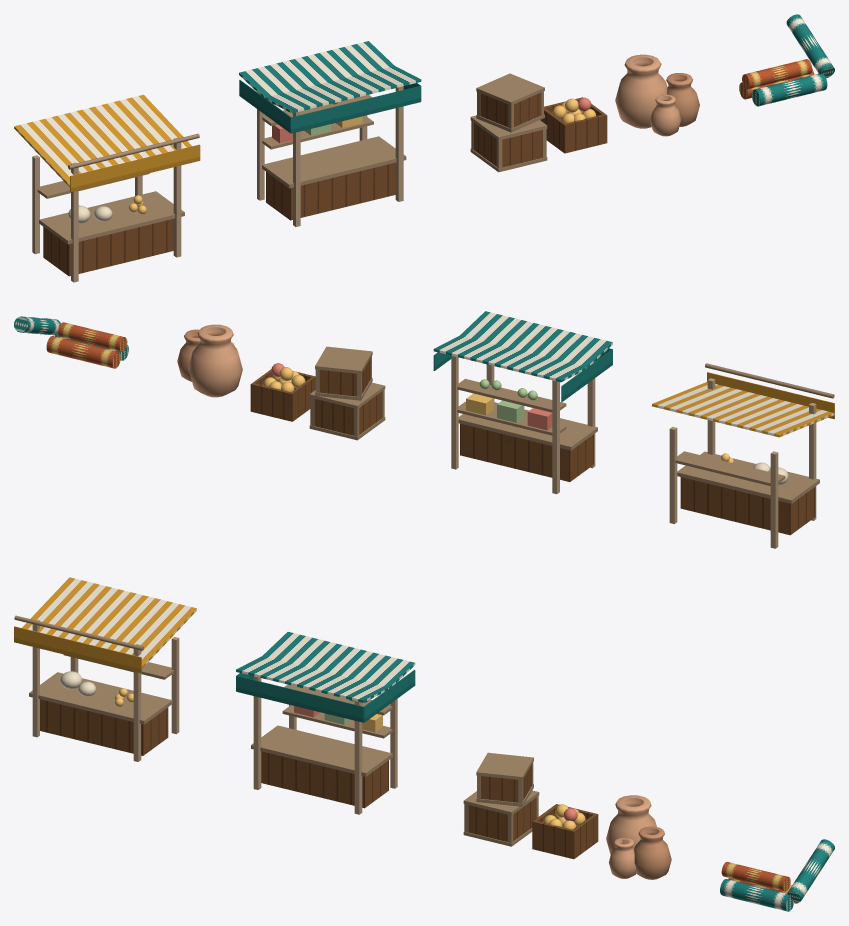
File: kit-2-bazaar-market.glb
3 renders of one model, top to bottom at view 1: azimuth 30°, elevation 25°; view 2: azimuth 150°, elevation 25°; view 3: azimuth 330°, elevation 25°, orthographic.
Visible parts, largest first — view 1: Bazaar_Stall_B, Bazaar_Stall_A, Bazaar_Crates, Bazaar_Pots, Bazaar_Carpets; view 2: Bazaar_Stall_B, Bazaar_Stall_A, Bazaar_Crates, Bazaar_Pots, Bazaar_Carpets; view 3: Bazaar_Stall_B, Bazaar_Stall_A, Bazaar_Crates, Bazaar_Pots, Bazaar_Carpets.
Part boxes in pixels (x1,y1,x2,y2): Bazaar_Stall_B: (239, 41, 421, 226); Bazaar_Stall_A: (14, 94, 200, 282); Bazaar_Crates: (470, 73, 607, 172); Bazaar_Pots: (615, 54, 699, 136); Bazaar_Carpets: (739, 14, 834, 106); Bazaar_Stall_B: (433, 311, 612, 494); Bazaar_Stall_A: (652, 363, 834, 548); Bazaar_Crates: (250, 346, 385, 440); Bazaar_Pots: (177, 324, 242, 397); Bazaar_Carpets: (14, 316, 128, 368); Bazaar_Stall_B: (236, 632, 415, 814); Bazaar_Stall_A: (14, 577, 196, 761); Bazaar_Crates: (463, 752, 598, 859); Bazaar_Pots: (606, 795, 671, 879); Bazaar_Carpets: (720, 839, 834, 911).
Size of the model in its own units: 17.51 by 2.66 by 2.2.
15 materials, 7 textured.
